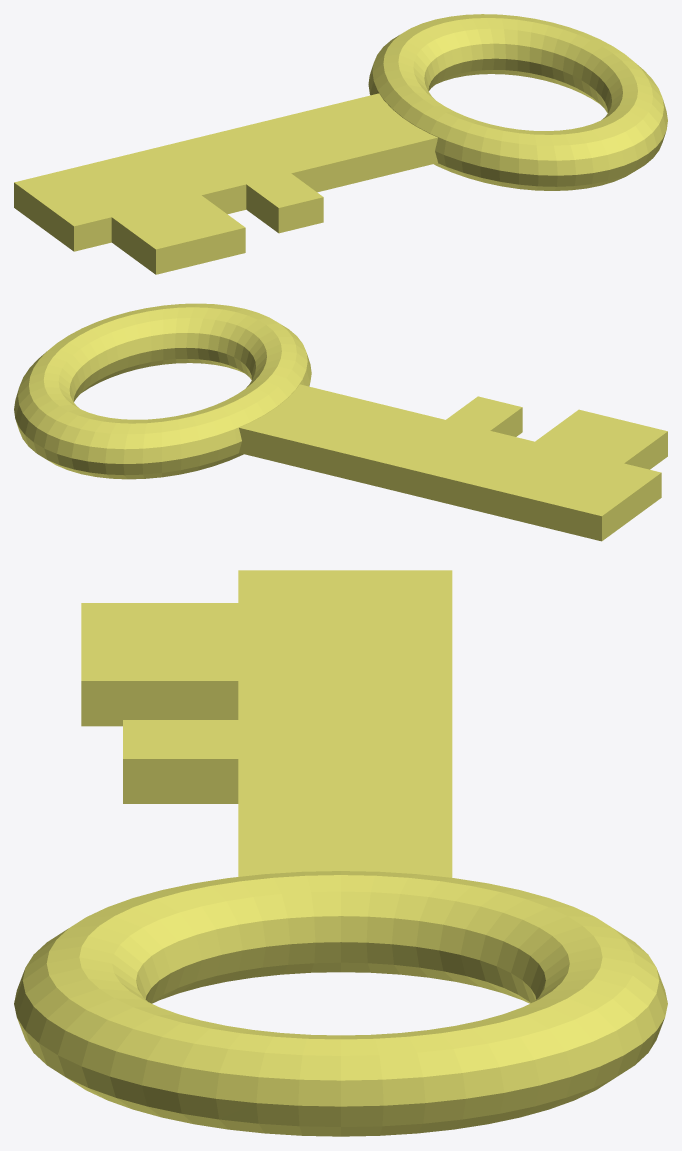
File: bedroom_key.dae
3 views of the same model, one above another, from view 1: azimuth 30°, elevation 25°; view 2: azimuth 150°, elevation 25°; view 3: azimuth 270°, elevation 25° (orthographic). The views are drawn at different scales.
Visible parts, largest first — view 1: Cube; view 2: Cube; view 3: Cube.
Part boxes in pixels (left/top/right/bottom): Cube: left=14, top=14, right=667, bottom=274; Cube: left=14, top=303, right=667, bottom=541; Cube: left=14, top=570, right=667, bottom=1136.
Size of the model in its own units: 33.81 by 18.19 by 2.86.
